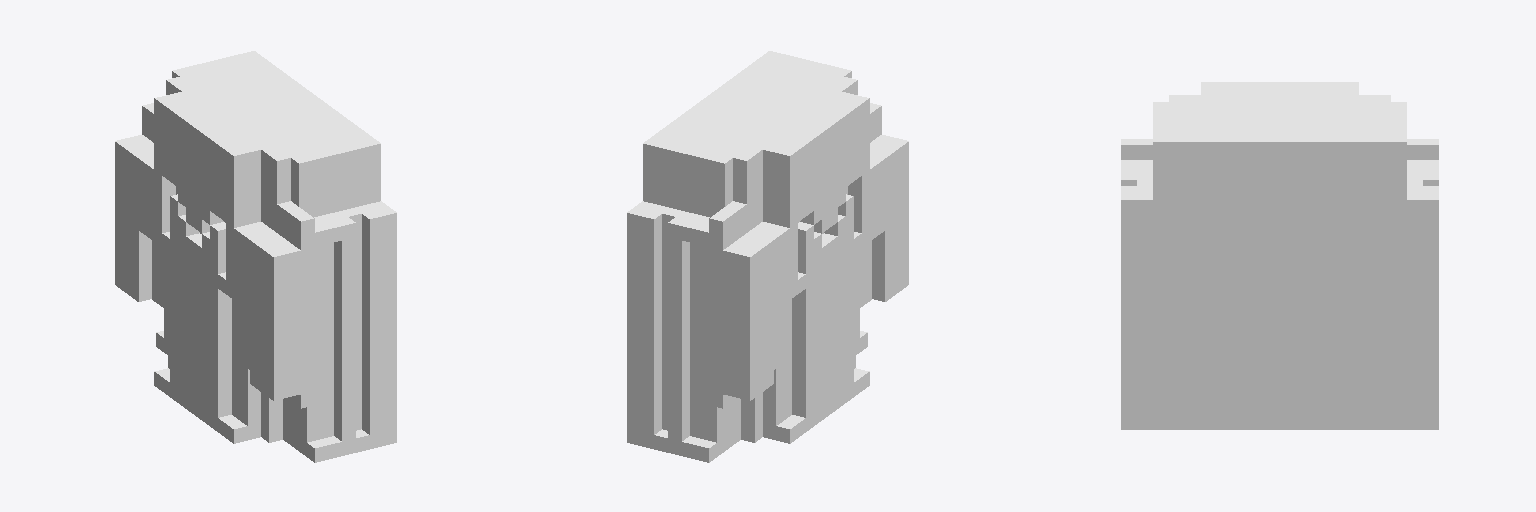
Rendered from MediumShadow.obj.
3 renders of one model, left to right at view 1: azimuth 30°, elevation 25°; view 2: azimuth 150°, elevation 25°; view 3: azimuth 270°, elevation 25°, orthographic.
Visible parts, largest first — view 1: object 1; view 2: object 1; view 3: object 1.
Boxes of the visible parts, x1=… form: object 1: x1=115, y1=51, x2=396, y2=462; object 1: x1=627, y1=51, x2=908, y2=462; object 1: x1=1121, y1=82, x2=1438, y2=429.
Size of the model in its own units: 0.9 by 2 by 2.